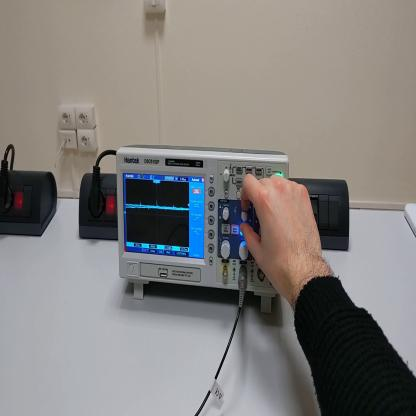hand: (240, 172, 326, 301)
oscilloscope: (116, 144, 290, 315)
socket: (1, 169, 60, 241), (78, 174, 119, 241)
